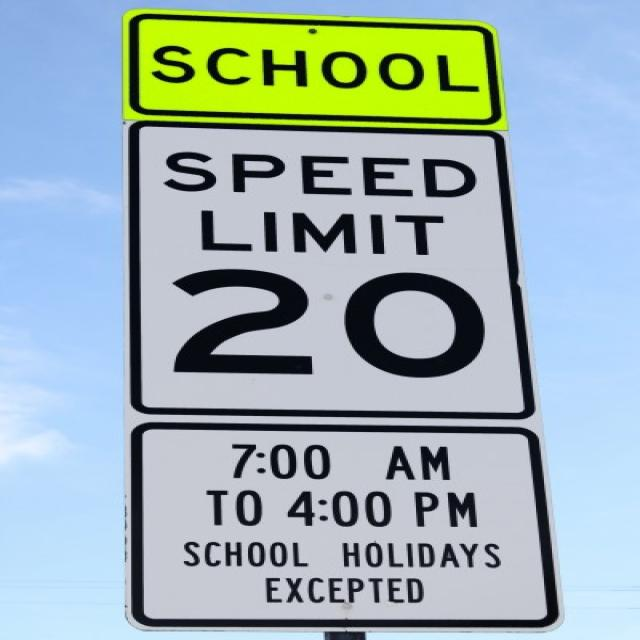speedLimit20: (122, 121, 532, 420)
